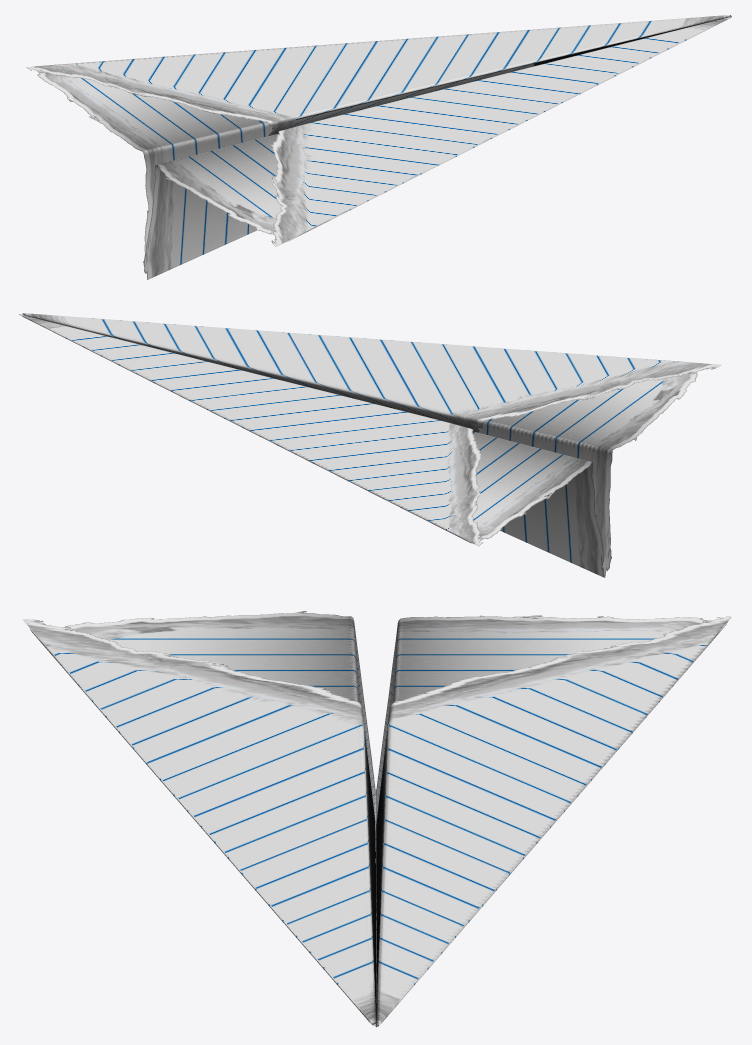
3 views of the same model, one above another, from view 1: azimuth 30°, elevation 25°; view 2: azimuth 150°, elevation 25°; view 3: azimuth 270°, elevation 25° (orthographic). The views are drawn at different scales.
Parts seen in each view (by area): view 1: paper plane asset; view 2: paper plane asset; view 3: paper plane asset.
Part boxes in pixels (x1,y1,x2,y2): paper plane asset: (26, 15, 731, 279); paper plane asset: (19, 313, 721, 577); paper plane asset: (23, 611, 731, 1027).
Bounding box in the file's own units: 4.48 × 0.889 × 3.26.
1 material, 1 textured.
